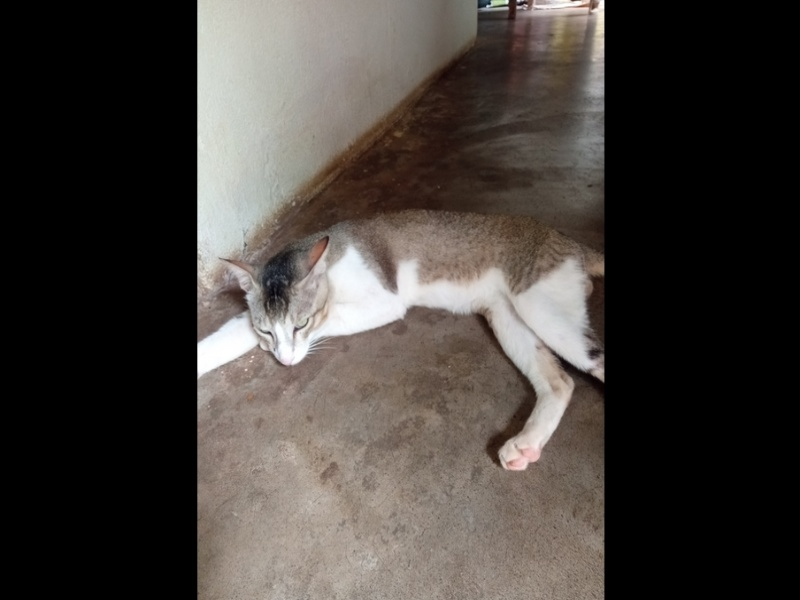cat: (200, 205, 599, 469)
